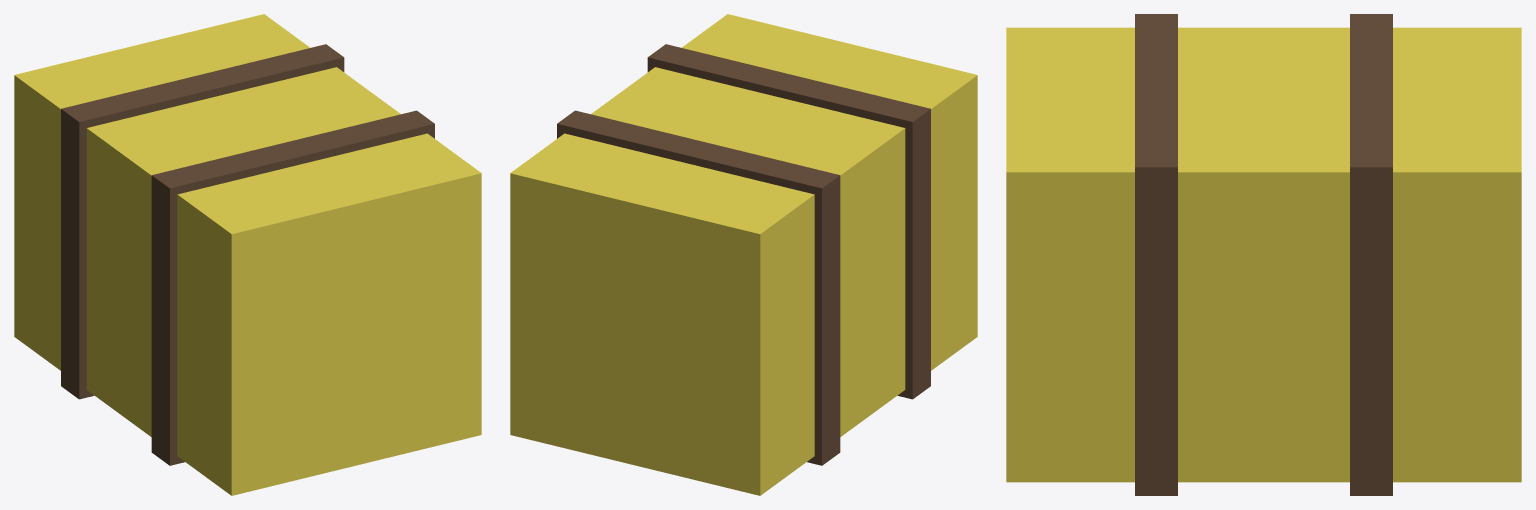
The model's file is prop_haybale_mesh_01_v1.glb.
3 views of the same model, side by side, from view 1: azimuth 30°, elevation 25°; view 2: azimuth 150°, elevation 25°; view 3: azimuth 270°, elevation 25° (orthographic). The views are drawn at different scales.
Parts seen in each view (by area): view 1: Hay; view 2: Hay; view 3: Hay.
Boxes of the visible parts, box(x1,y1,x2,y2) form: Hay: box(14, 14, 481, 495); Hay: box(510, 14, 977, 495); Hay: box(1006, 14, 1521, 495).
Size of the model in its own units: 1.73 by 1.73 by 2.46.
